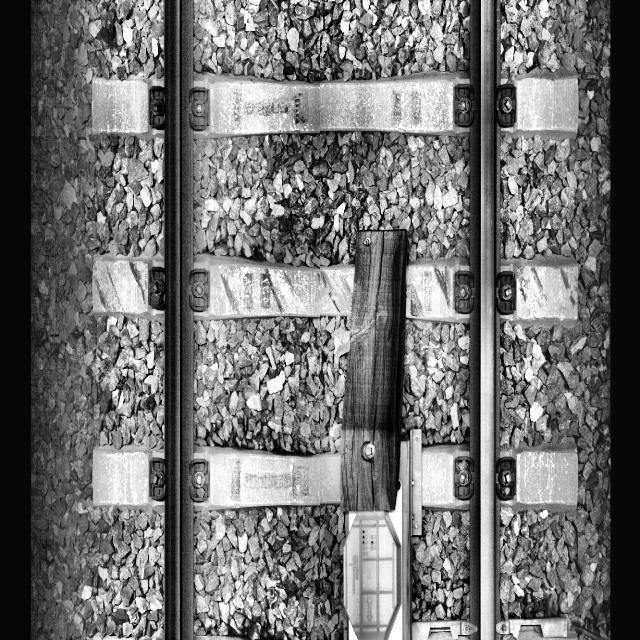Clips: (448, 82, 478, 128), (451, 270, 477, 317), (186, 459, 211, 504), (495, 269, 518, 317), (452, 456, 476, 502), (186, 268, 211, 312), (494, 455, 518, 500), (186, 87, 211, 130), (146, 454, 167, 501), (146, 265, 167, 309), (494, 84, 516, 124), (148, 85, 165, 128)
Sleepers: (91, 248, 583, 330), (88, 66, 583, 142), (90, 440, 579, 514)
